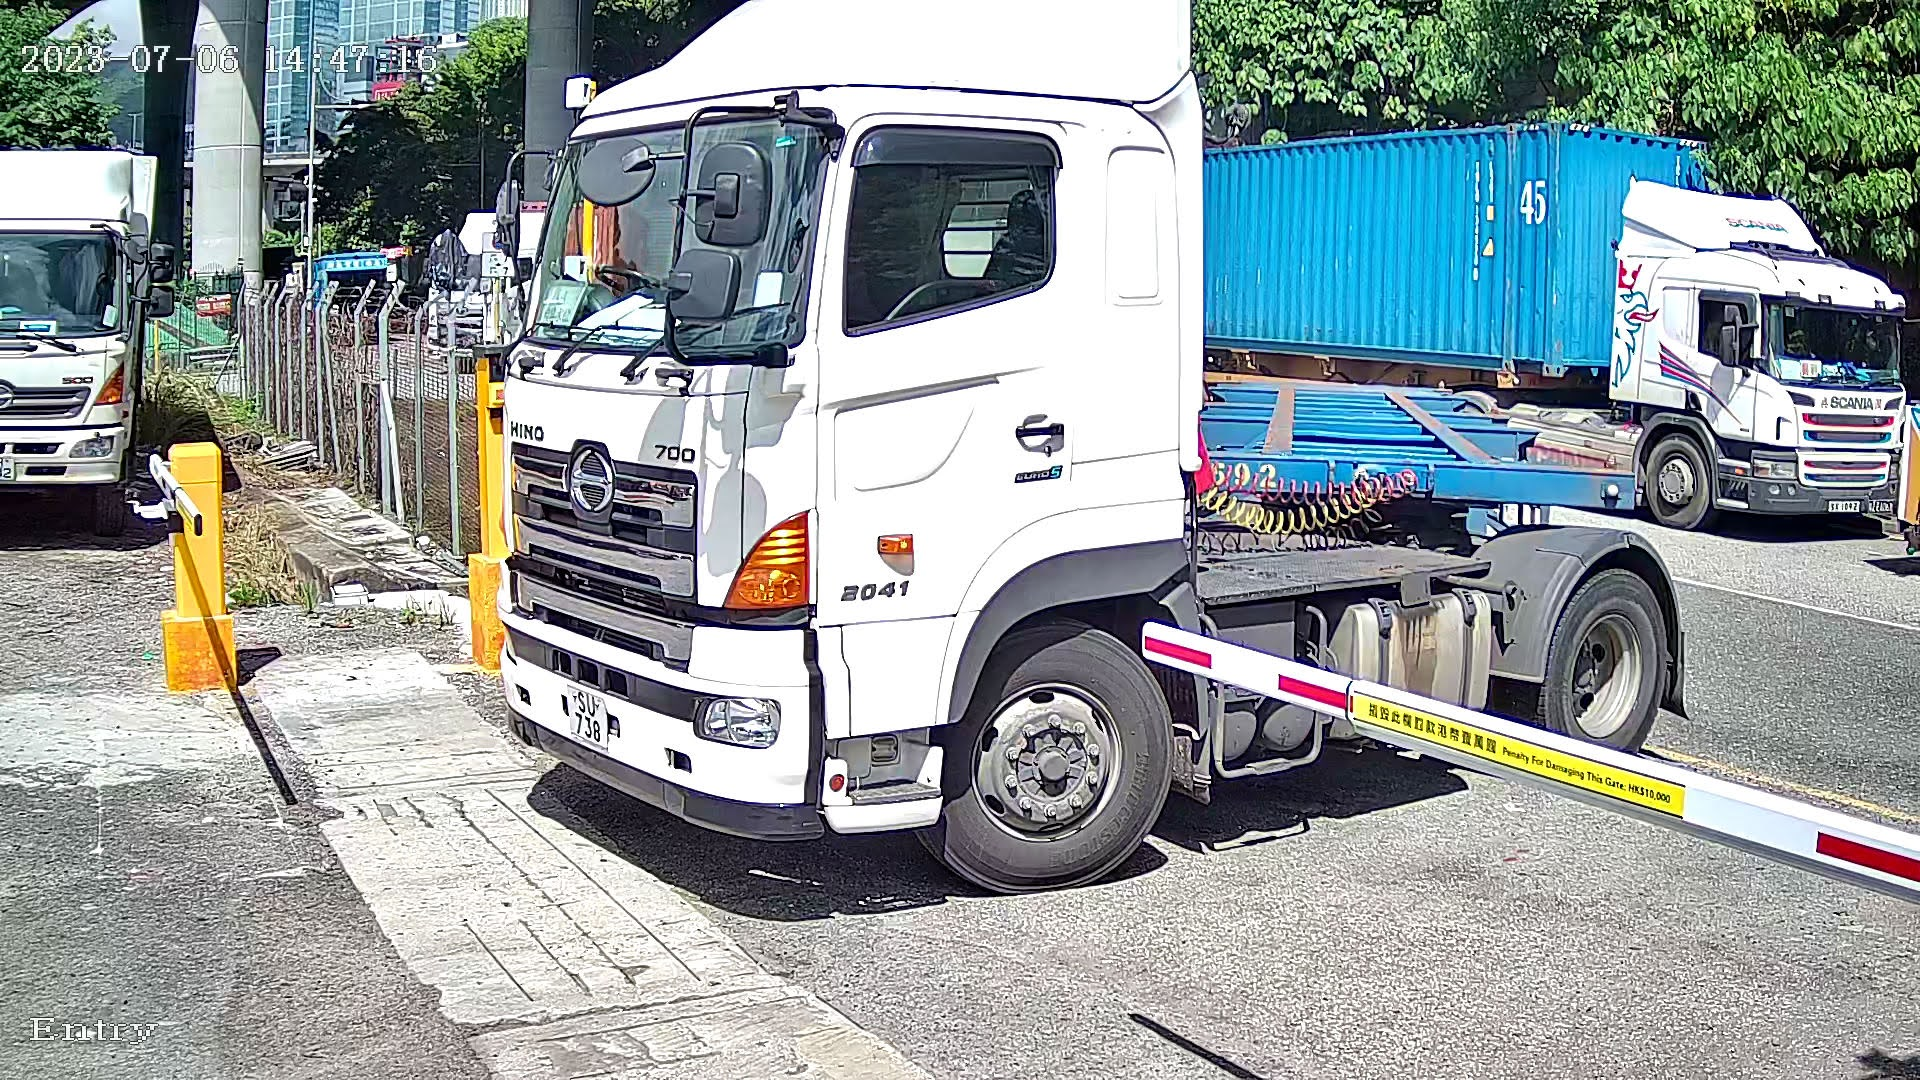truck: (385, 1, 1676, 985)
